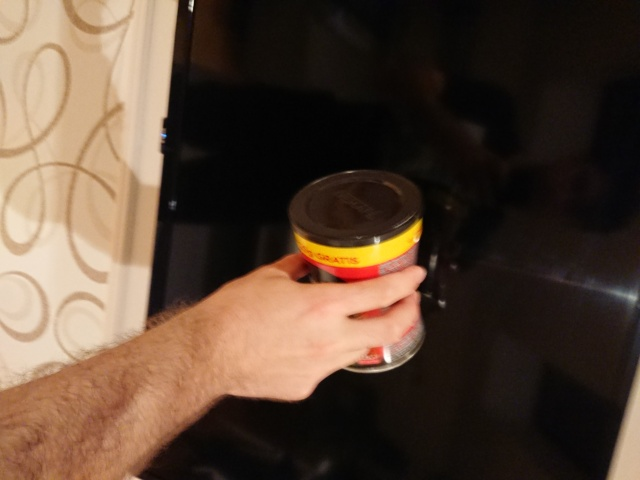Nescafe Classic 225g: (285, 166, 430, 377)
